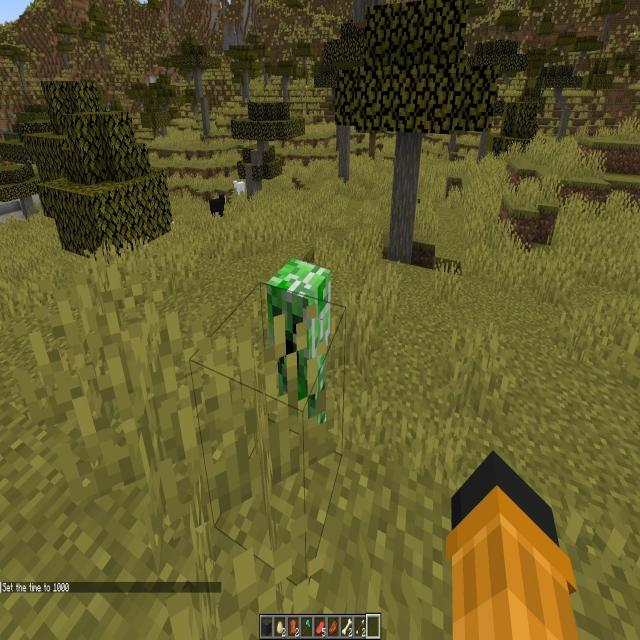Creeper: (270, 265, 330, 427)
Sheep: (210, 195, 226, 217), (232, 180, 245, 194)
